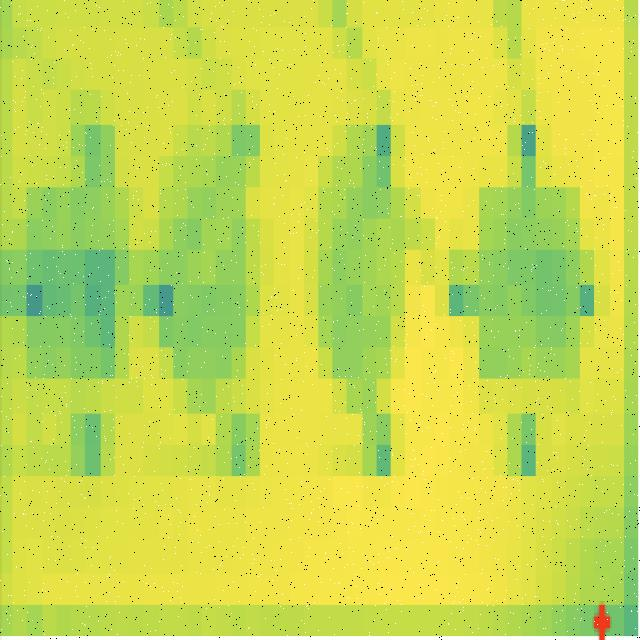Concrete: (26, 185, 131, 381)
Glass: (480, 188, 579, 382)
Metal: (158, 185, 261, 400)
Wood: (318, 160, 414, 404)
